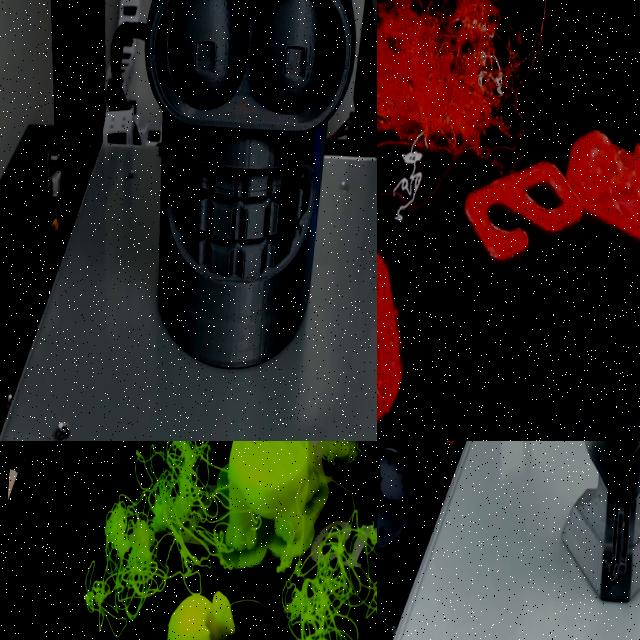spaghetti: (82, 441, 377, 640), (377, 0, 542, 173)
